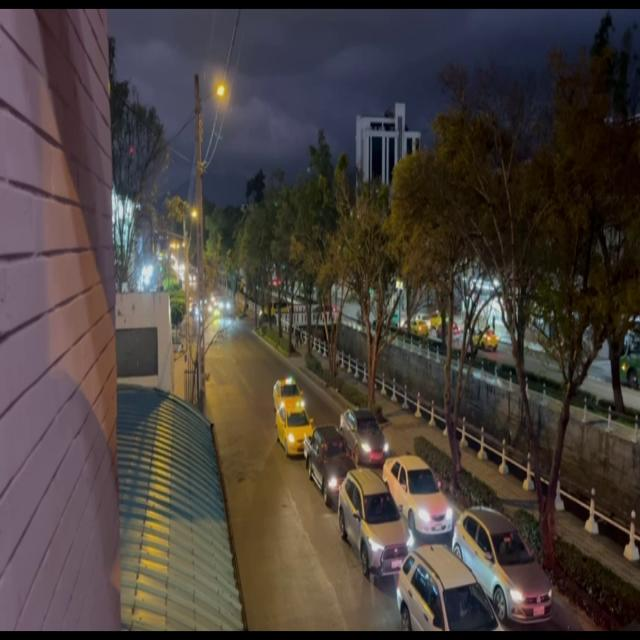CMT: (304, 424, 343, 504)
SUV: (339, 469, 405, 574)
